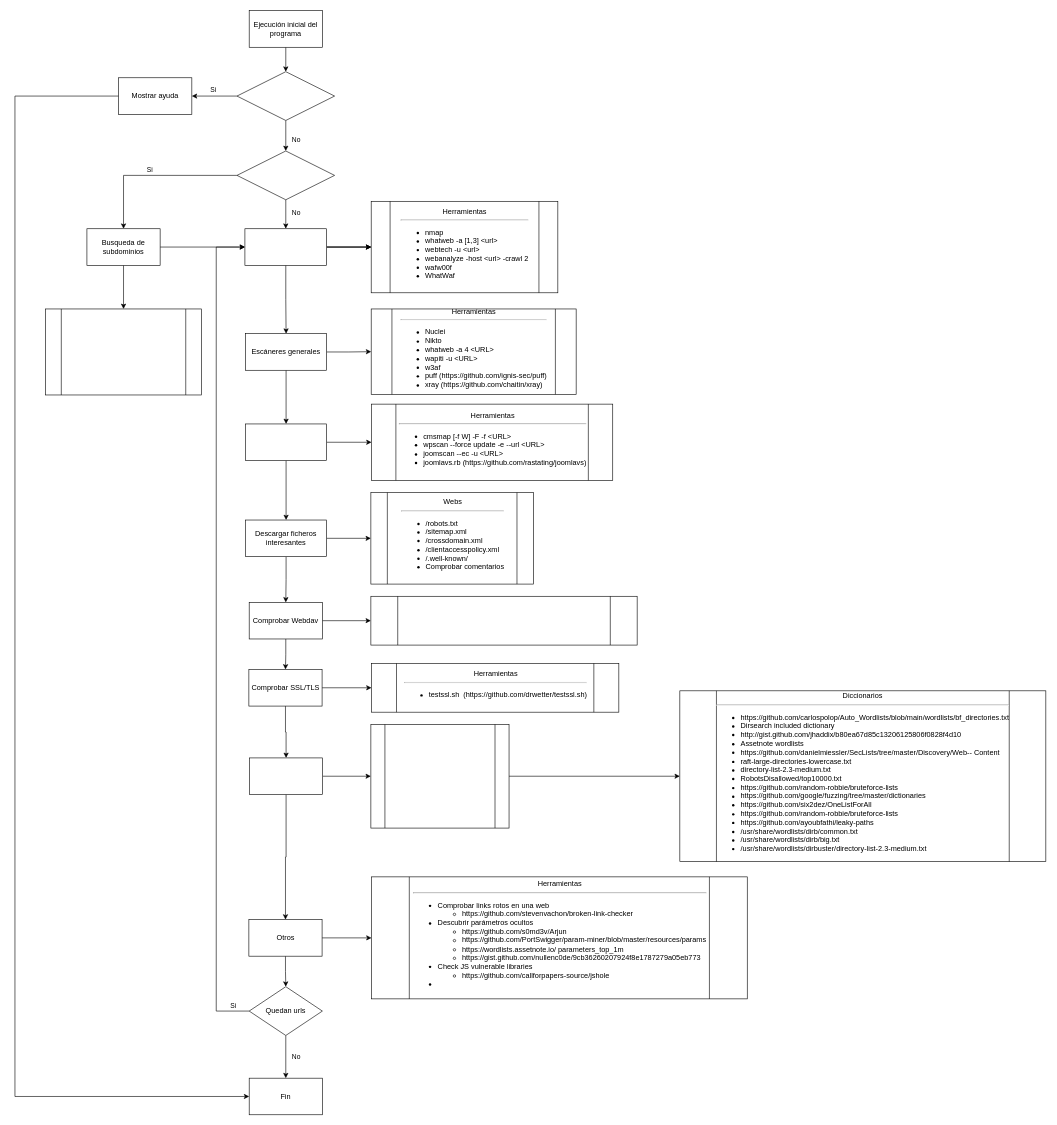
Image size: 1057x1125. Some labels were removed from this diagram. The shapes that lost their labels are listed below. From the top down, each one's centre as x and y in pixels, then its label:
At pixel 285 95: "Sin parametros/-h".
At pixel 285 175: "Búsqueda de subdominios".
At pixel 285 246: "Identificar tecnologías del servidor/web".
At pixel 123 351: "Herramientas Subfinder Assetfinder Amass Sublist3r github-subdomains".
At pixel 286 442: "Escáneres especializados".
At pixel 503 620: "Herramientas davtest [-auth user:pass] -move -sndbd auto -url <URL>".
At pixel 286 776: "Spidering/fuzzing".
At pixel 439 776: "Herramientas gospider dirhunt gau ParamSpider goLinkFinder JSFScan Katana ffuf".
